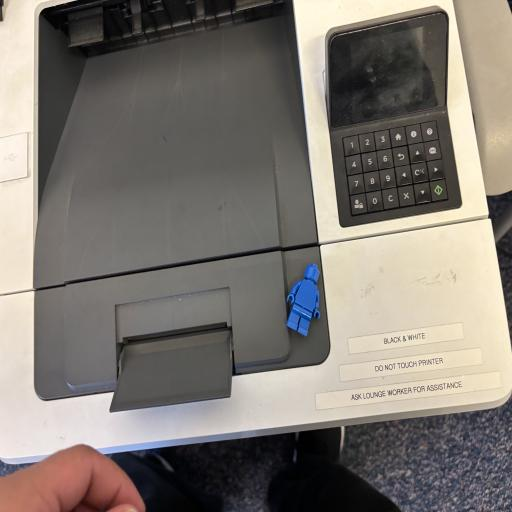Blue-Lego-Minifig: (286, 263, 321, 336)
